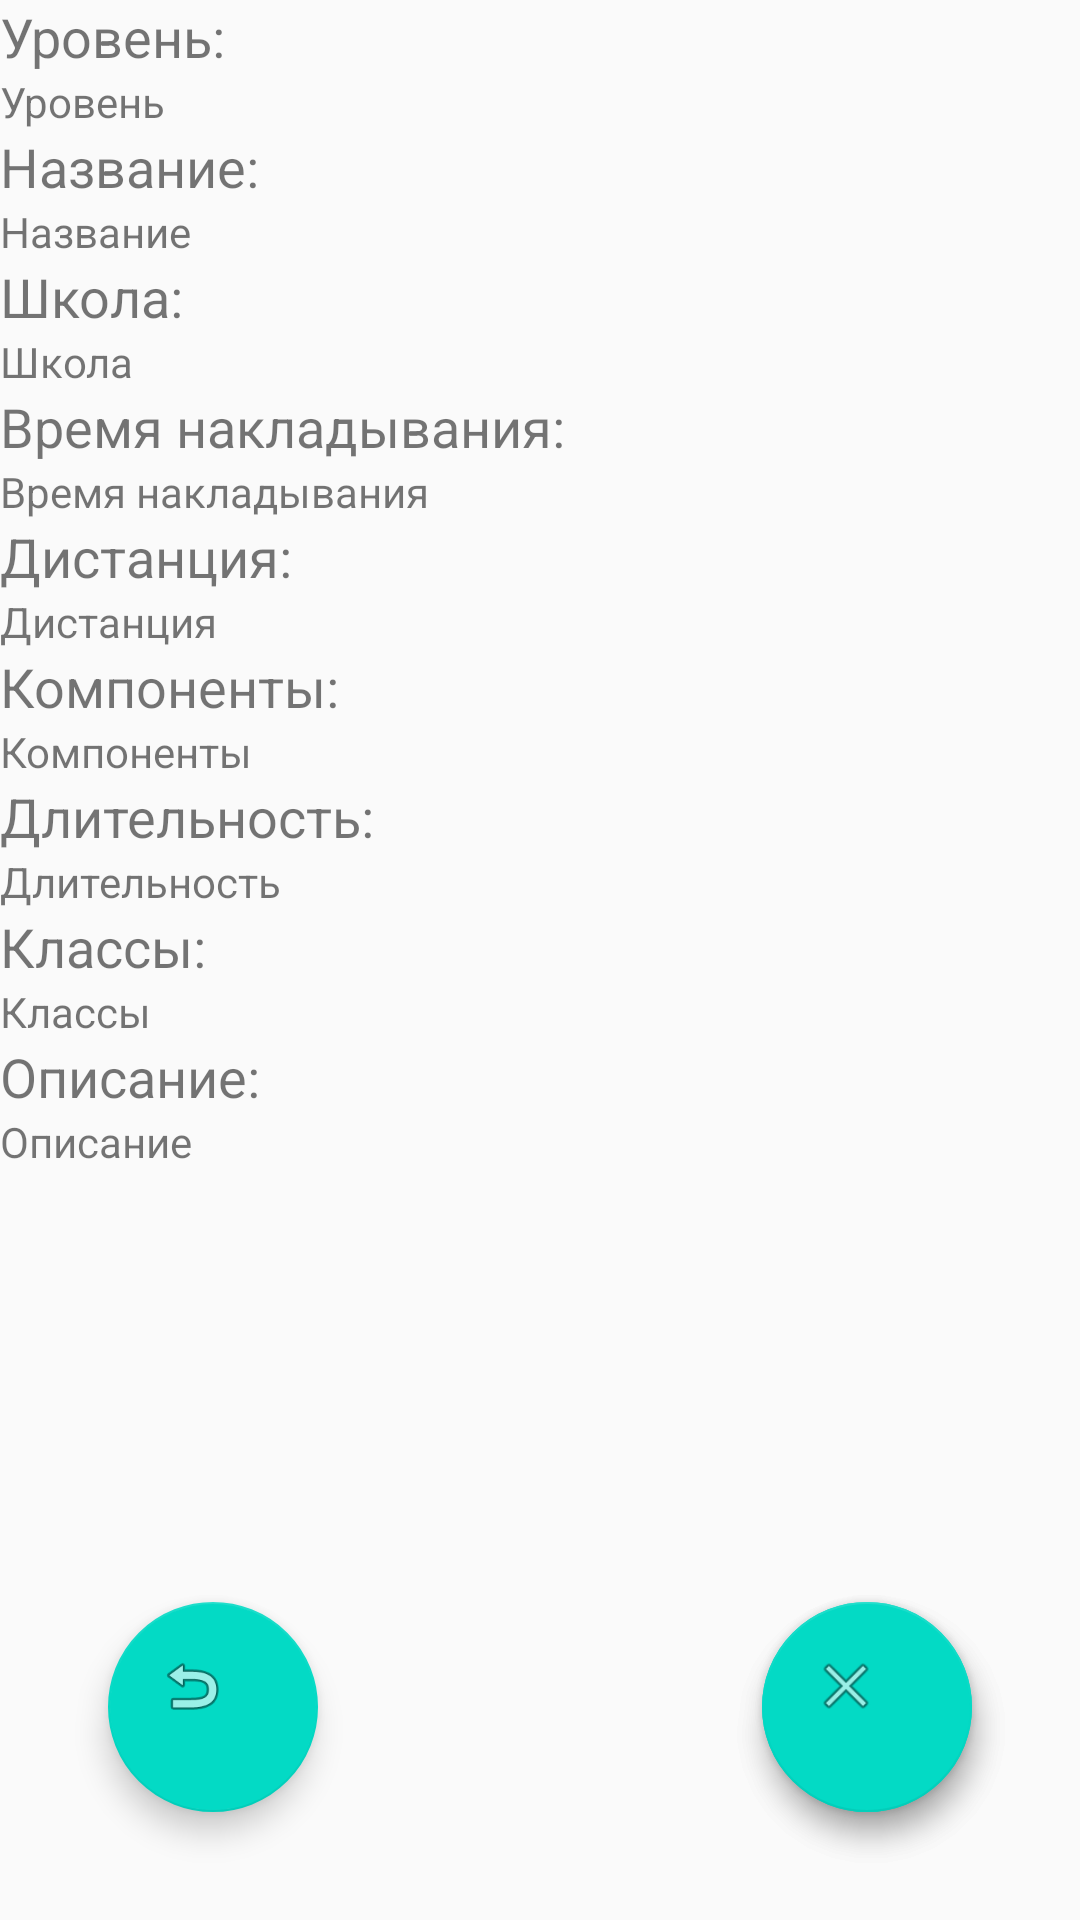

Point at icon controls on the screen. Image size 1080px x 1920px, points as (x,y).
revert: (213,1707)
